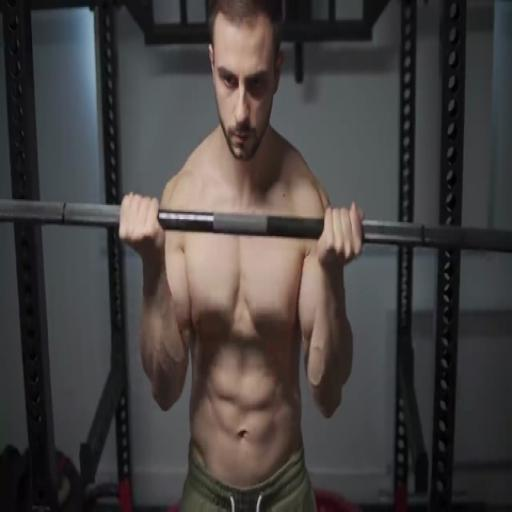exercise: (116, 0, 367, 511)
